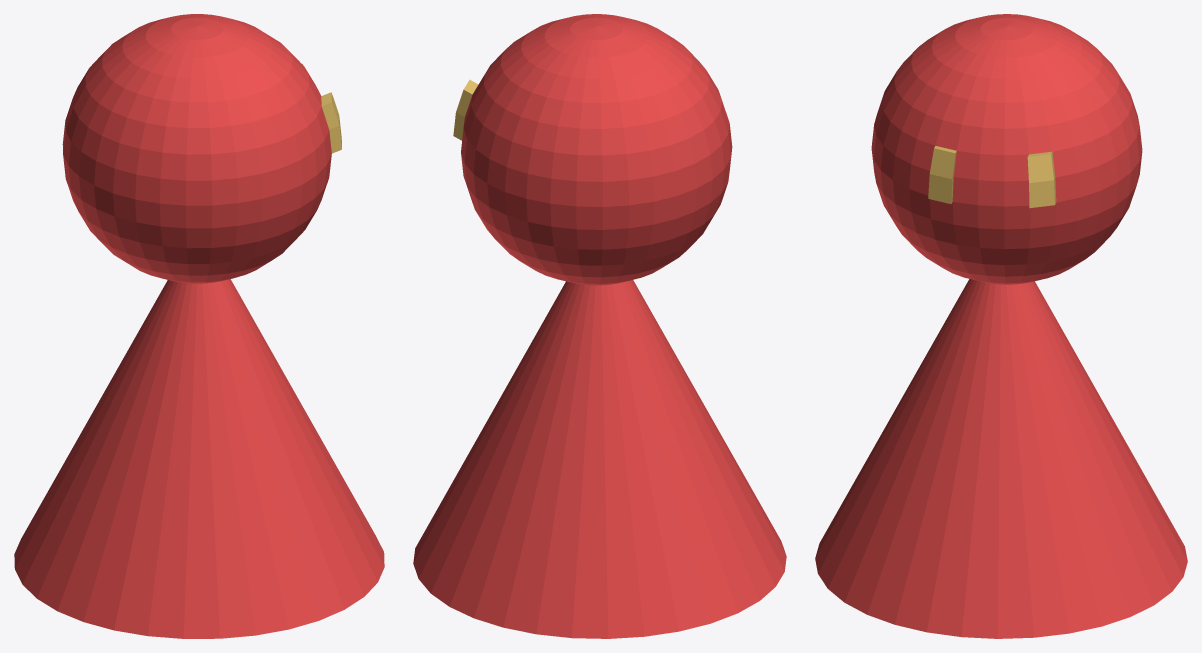
File: animate1_4.glb
3 renders of one model, left to right at view 1: azimuth 30°, elevation 25°; view 2: azimuth 150°, elevation 25°; view 3: azimuth 270°, elevation 25°, orthographic.
Parts seen in each view (by area): view 1: hito1_4; view 2: hito1_4; view 3: hito1_4.
Boxes of the visible parts, bbox=[...] form: hito1_4: bbox=[14, 14, 384, 638]; hito1_4: bbox=[413, 14, 786, 638]; hito1_4: bbox=[815, 14, 1187, 638].
Size of the model in its own units: 1.7 by 2.69 by 1.7.
